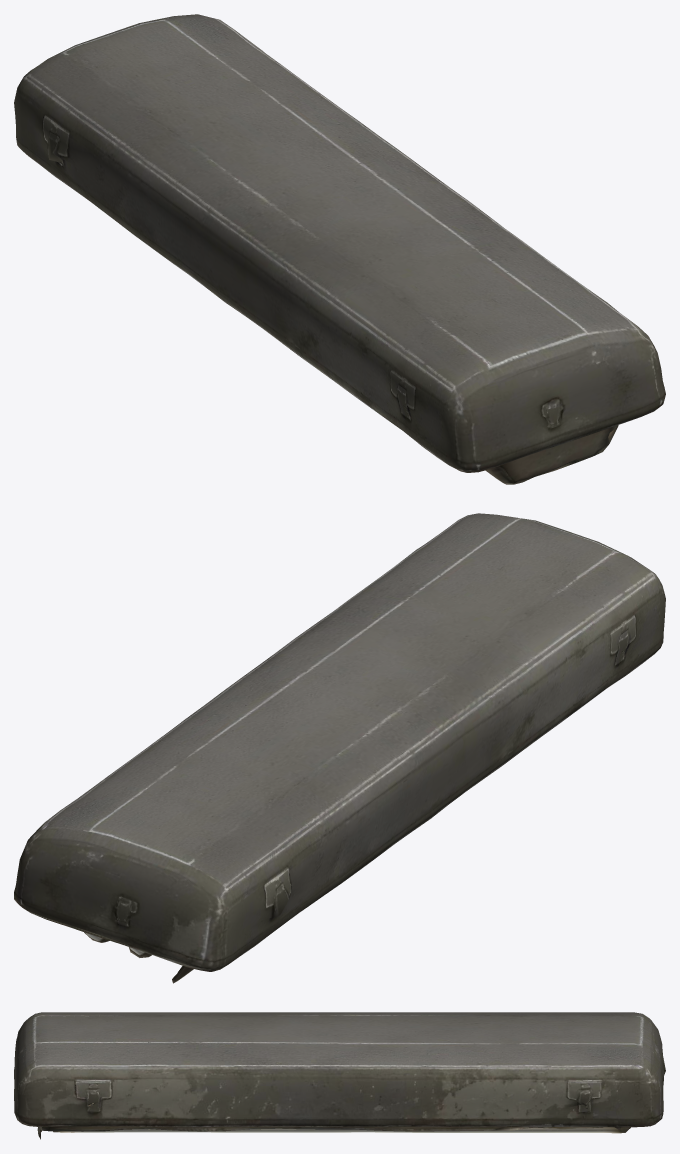
The model's file is endustriyel_lamba.glb.
The picture shows the model from 3 angles, top to bottom: view 1: azimuth 30°, elevation 25°; view 2: azimuth 150°, elevation 25°; view 3: azimuth 270°, elevation 25°; orthographic projection. The views are drawn at different scales.
Parts seen in each view (by area): view 1: tripo_node_3bbcaba4-163b-47a4-8c6b-cb00d4f69806; view 2: tripo_node_3bbcaba4-163b-47a4-8c6b-cb00d4f69806; view 3: tripo_node_3bbcaba4-163b-47a4-8c6b-cb00d4f69806.
Boxes of the visible parts, <box> form: tripo_node_3bbcaba4-163b-47a4-8c6b-cb00d4f69806: <box>14,14,665,484</box>; tripo_node_3bbcaba4-163b-47a4-8c6b-cb00d4f69806: <box>14,513,665,983</box>; tripo_node_3bbcaba4-163b-47a4-8c6b-cb00d4f69806: <box>14,1012,665,1139</box>.
Bounding box in the file's own units: 0.2798 × 0.1651 × 0.9657.
1 material, 1 textured.
